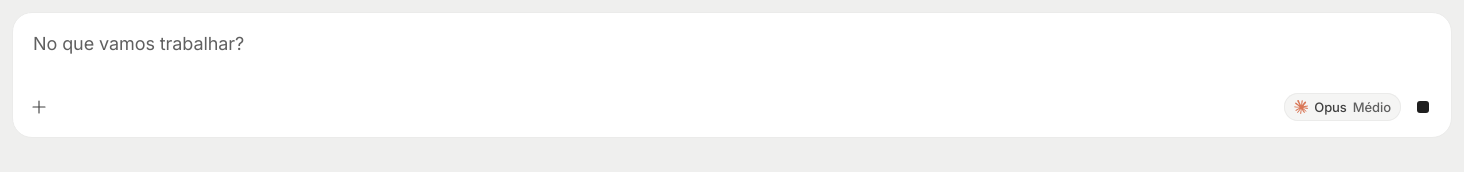
Scenario: pergunta à parte › com o agente rodando, Enter manda a mensagem ao agente e só o botão pergunta à parte
In the text box named "Mensagem": [732, 51] box [13,13,1451,89], type "Inclua os testes"
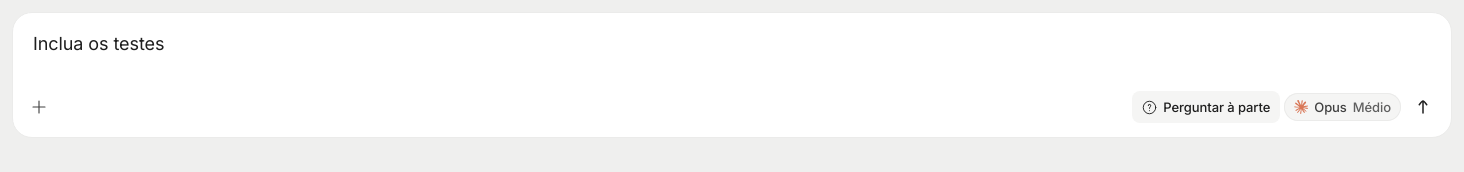
expect the button named "Enviar" is enabled: met, box [1405,89,1441,125]
Press Enter in the text box named "Mensagem", box [13,13,1451,89]
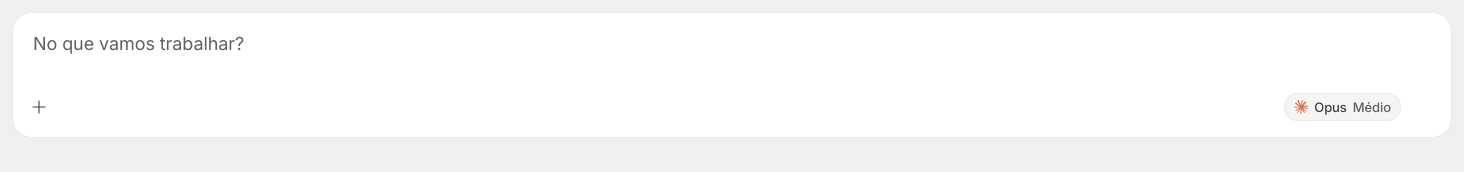
expect the text box named "Mensagem" is empty: met
In the text box named "Mensagem": [732, 51] box [13,13,1451,89], type "O que falta?"
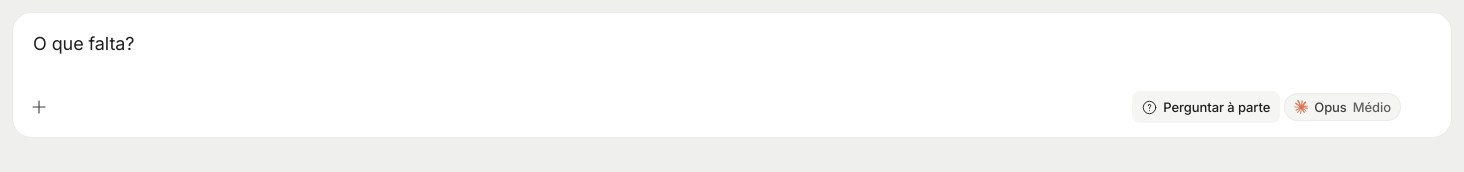
Click the button "Perguntar à parte": [1206, 107] box [1132,91,1280,123]
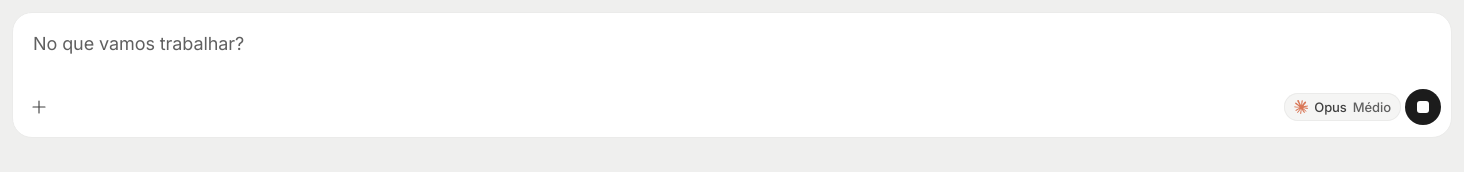
expect the text box named "Mensagem" is empty: met, box [13,13,1451,89]
